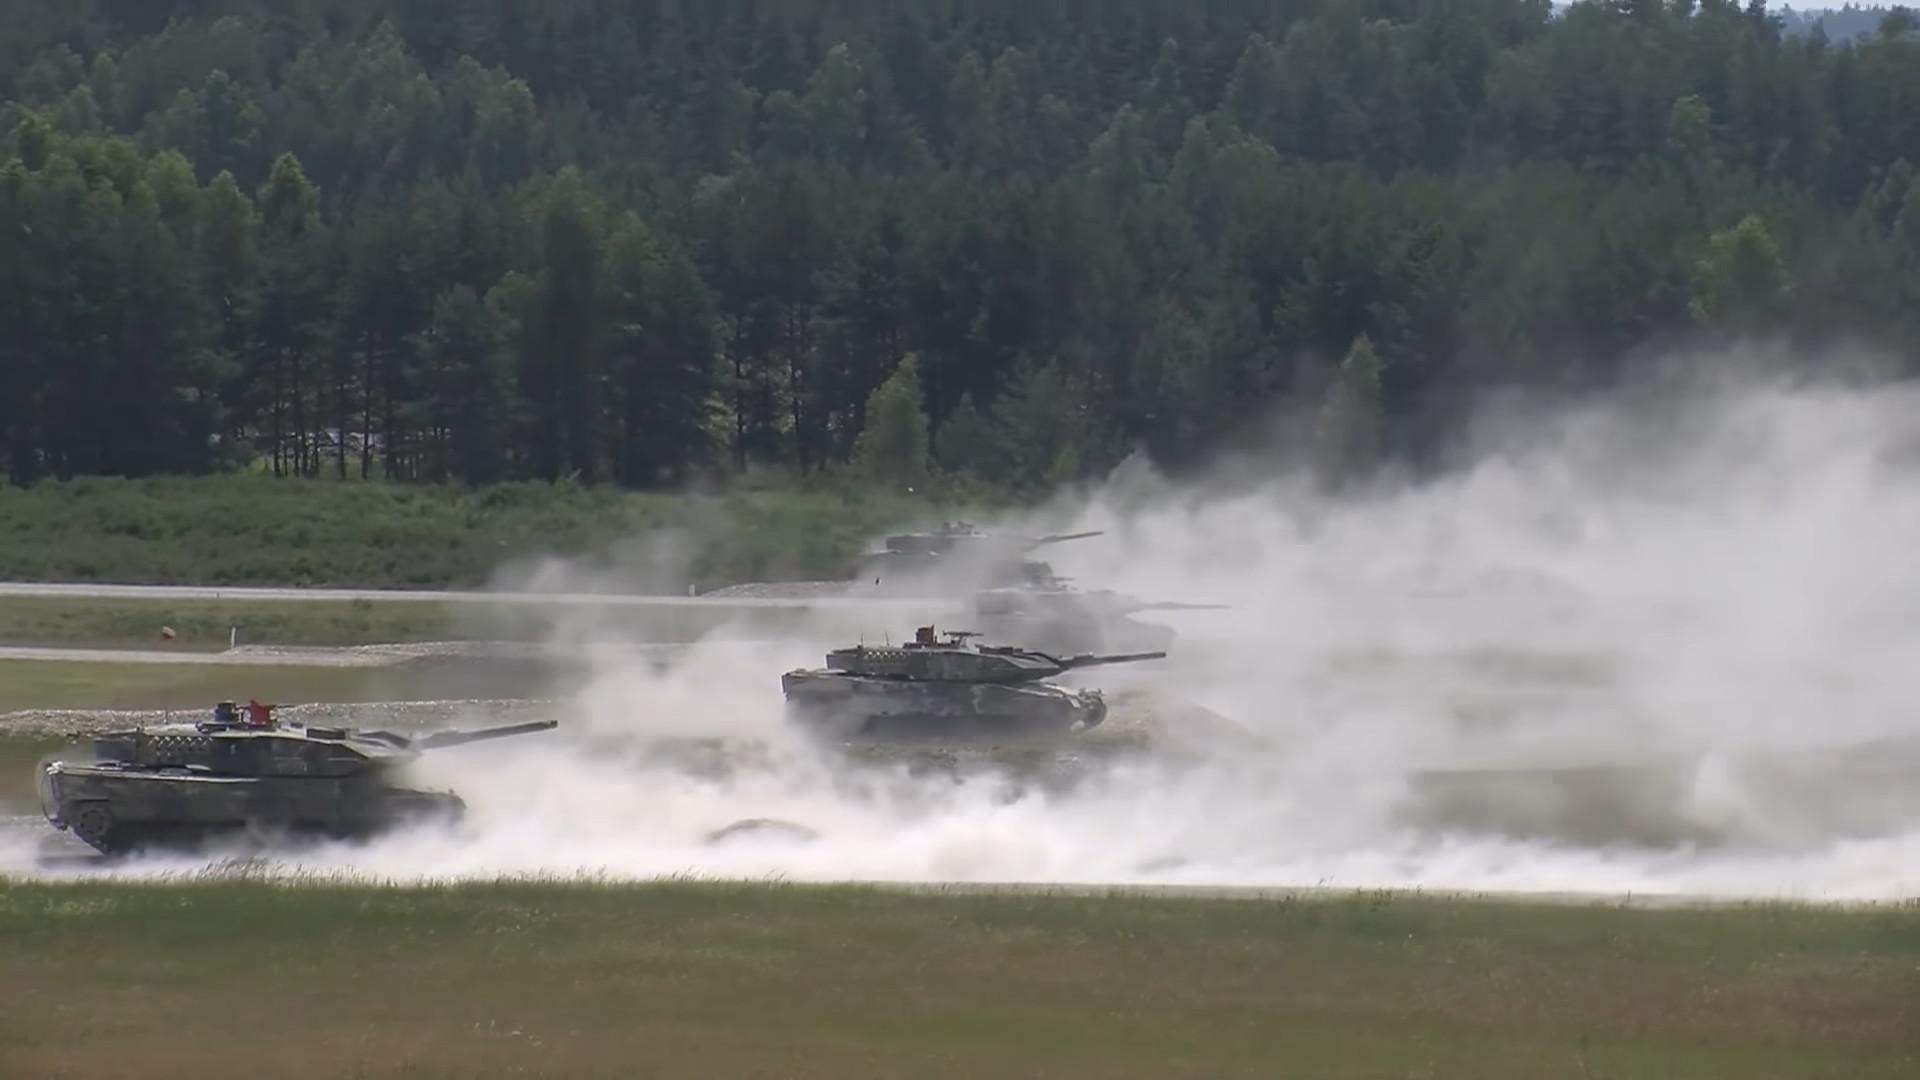tank: (45, 703, 558, 858), (781, 624, 1168, 736), (981, 585, 1230, 647), (864, 522, 1105, 583)
